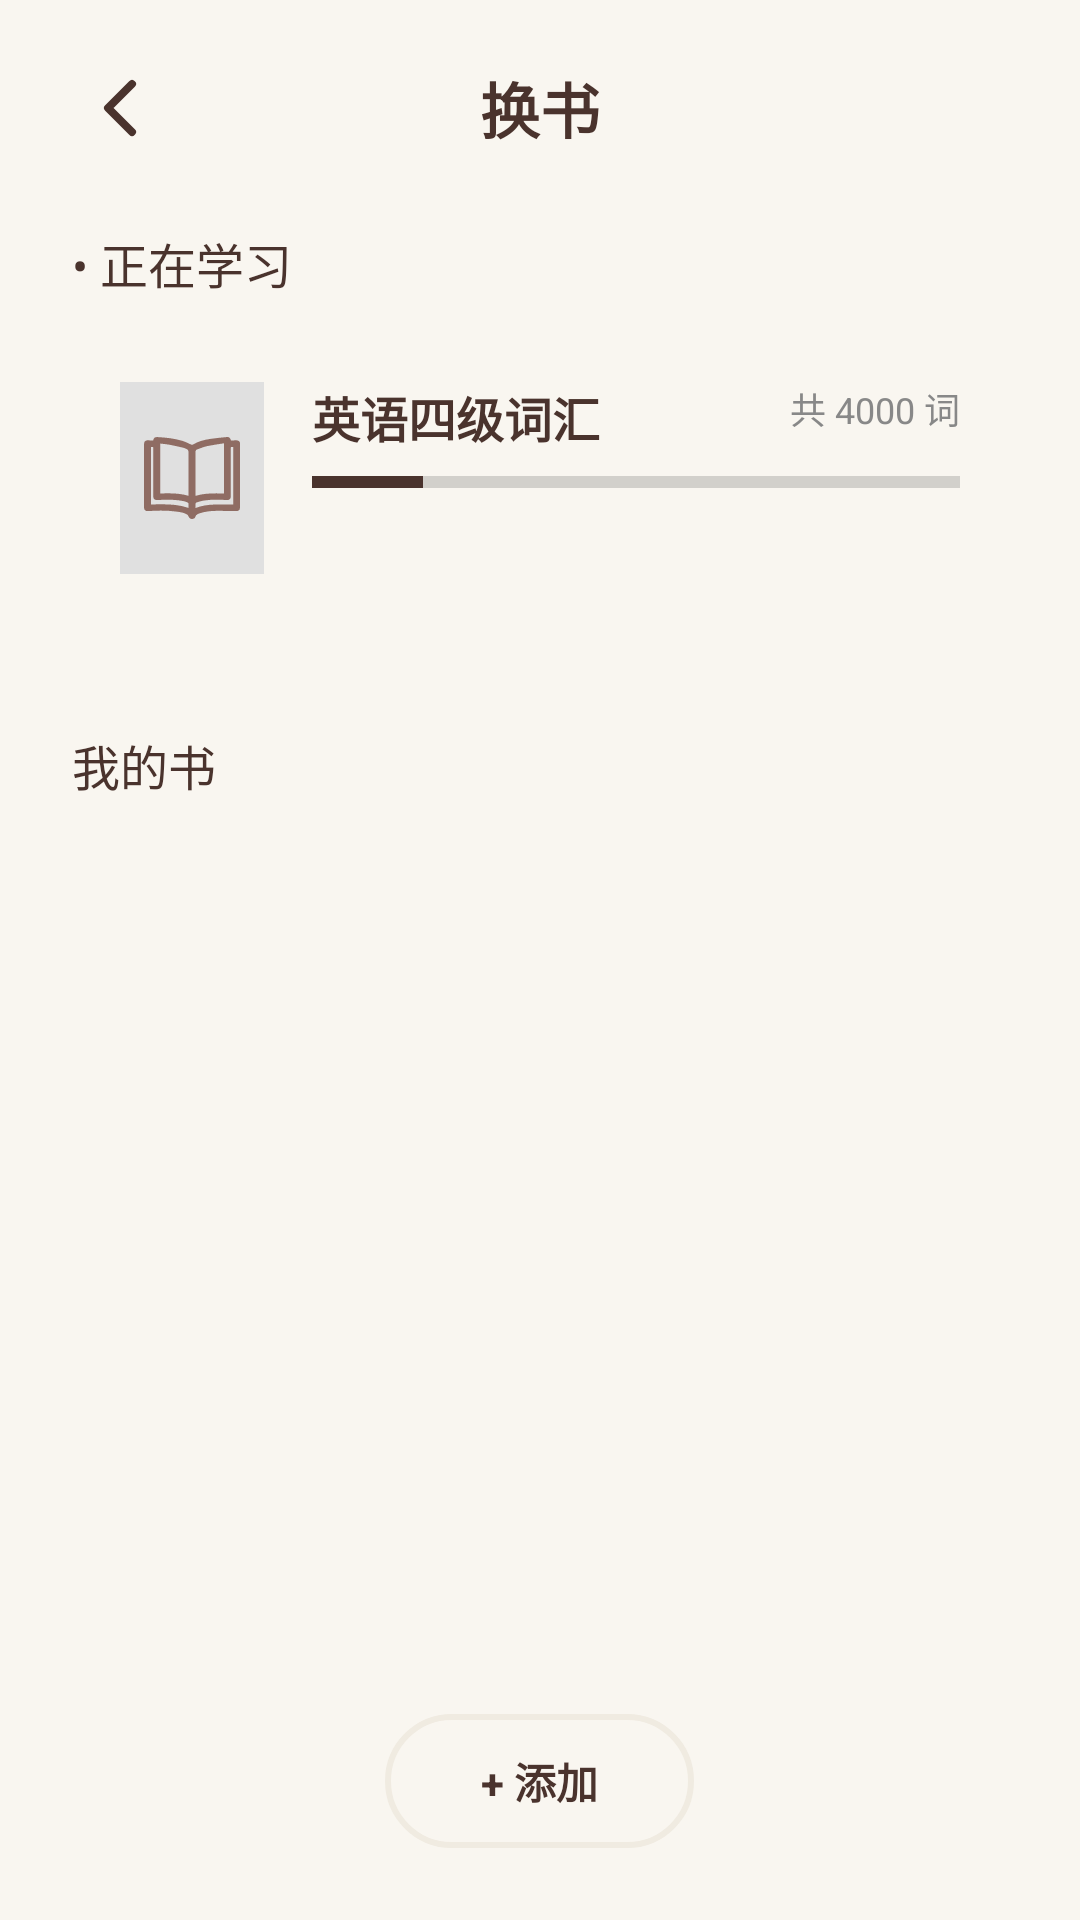

Where to tap for icons on this 1080x1920 app screen, as (x,y):
study: (192,478)
